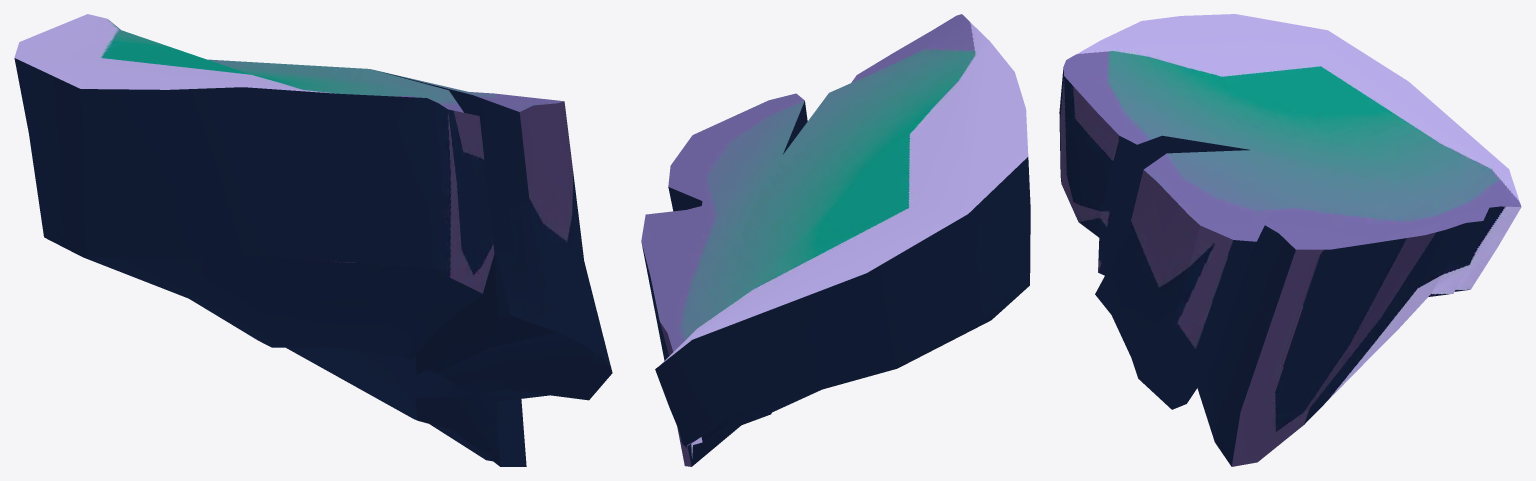
Rendered from Github-3D-Block1-v2.glb.
The picture shows the model from 3 angles, left to right: view 1: azimuth 30°, elevation 25°; view 2: azimuth 150°, elevation 25°; view 3: azimuth 270°, elevation 25°; orthographic projection. The views are drawn at different scales.
Visible parts, largest first — view 1: Plane.001; view 2: Plane.001; view 3: Plane.001.
Boxes of the visible parts, bbox=[...] form: Plane.001: bbox=[14, 14, 612, 466]; Plane.001: bbox=[641, 14, 1030, 466]; Plane.001: bbox=[1059, 14, 1521, 466].
Size of the model in its own units: 3.14 by 3.4 by 4.22.
1 material, 1 textured.
